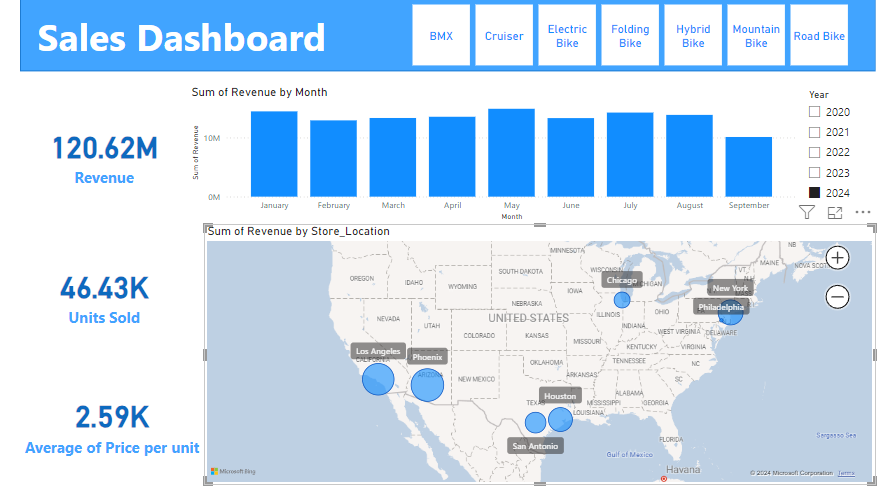

What the dashboard file says about the page in this screenshot:
{"tool":"powerbi","page":{"name":"Page 1","canvas":[1280,720],"ordinal":0},"visuals":[{"type":"textbox","box":[10,0,280,280],"z":0},{"type":"shape","box":[28.8,0,1222.4,104.6],"z":1000},{"type":"card","fields":{"Values":["Sum(bike_sales_100k.Revenue)"]},"box":[28.4,122.4,240.3,200],"z":2000},{"type":"card","fields":{"Values":["Sum(bike_sales_100k.Quantity)"]},"box":[28.4,322.4,240.3,201.5],"z":3000},{"type":"card","fields":{"Values":["Avg(bike_sales_100k.Price)"]},"box":[28.4,519.4,262.7,176.1],"z":4000},{"type":"columnChart","fields":{"Y":["Sum(bike_sales_100k.Revenue)"],"Category":["bike_sales_100k.Date.Variation.Date Hierarchy.Year","bike_sales_100k.Date.Variation.Date Hierarchy.Quarter","bike_sales_100k.Date.Variation.Date Hierarchy.Month","bike_sales_100k.Date.Variation.Date Hierarchy.Day"]},"box":[268.7,123.9,874.6,198.5],"z":5000},{"type":"slicer","fields":{"Values":["bike_sales_100k.Date.Variation.Date Hierarchy.Year"]},"box":[1143.3,123.9,107.5,198.5],"z":6000},{"type":"map","fields":{"Category":["bike_sales_100k.Store_Location"],"Size":["Sum(bike_sales_100k.Revenue)"]},"box":[291.2,323,960,373.1],"z":7000},{"type":"advancedSlicerVisual","fields":{"Values":["bike_sales_100k.Bike_Model"]},"box":[583.9,4.5,633.9,97.1],"z":8000}]}

Visuals, with their boxes in screenshot pixels (x1, y1, x2, y2), scaled from the page's 1280x720 canvas onto the 894x500 screenshot:
textbox: 7, 0, 203, 194
shape: 20, 0, 874, 73
card - Sum(bike_sales_100k.Revenue): 20, 85, 188, 224
card - Sum(bike_sales_100k.Quantity): 20, 224, 188, 364
card - Avg(bike_sales_100k.Price): 20, 361, 203, 483
columnChart - Sum(bike_sales_100k.Revenue) x bike_sales_100k.Date.Variation.Date Hierarchy.Year: 188, 86, 799, 224
slicer - bike_sales_100k.Date.Variation.Date Hierarchy.Year: 799, 86, 874, 224
map - bike_sales_100k.Store_Location x Sum(bike_sales_100k.Revenue): 203, 224, 874, 483
advancedSlicerVisual - bike_sales_100k.Bike_Model: 408, 3, 851, 71
